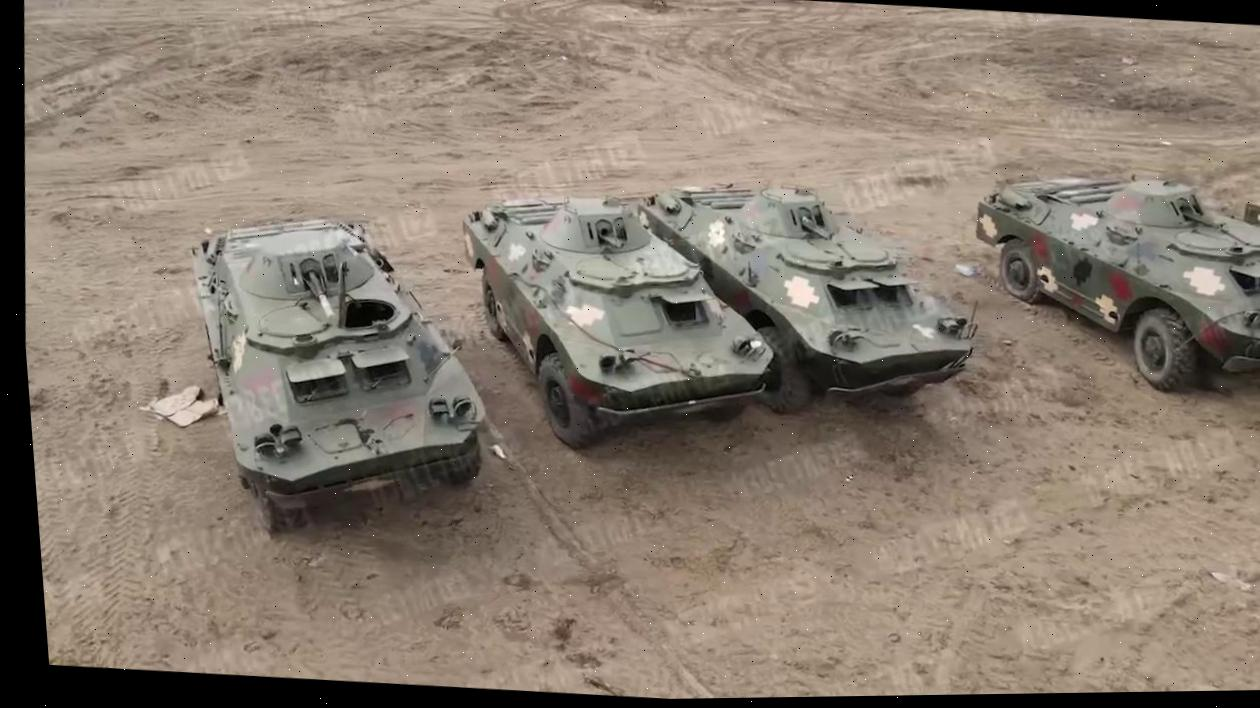tank: (166, 203, 512, 547), (443, 180, 801, 468), (629, 171, 990, 429), (957, 159, 1260, 401)
